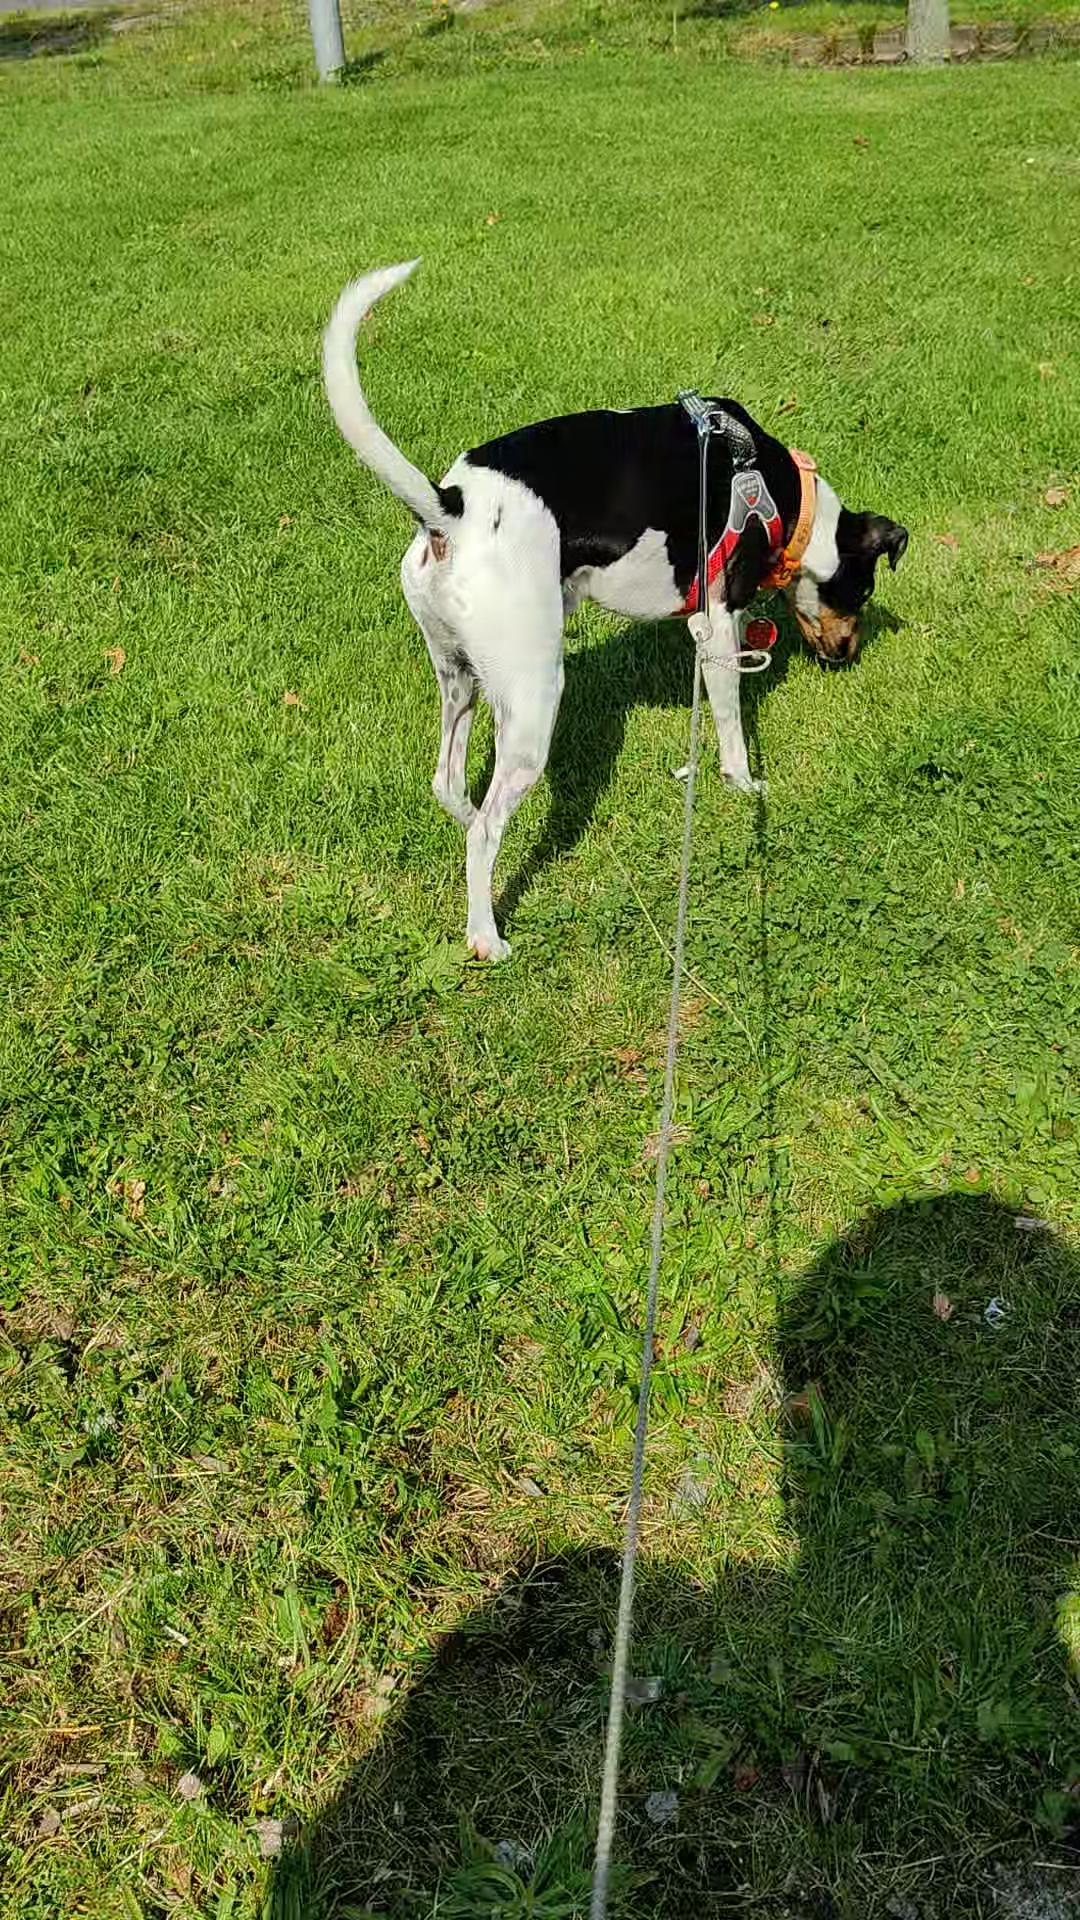Dog: (315, 257, 913, 968)
